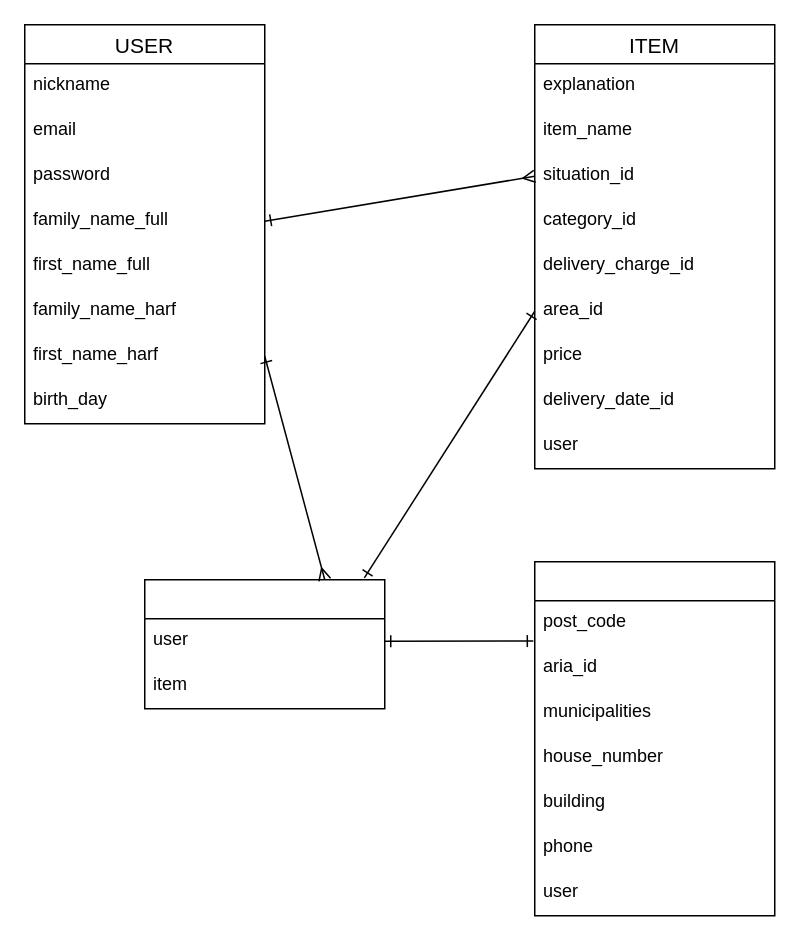
This 800x941 diagram has some shape labels left out. Each missing label, with the box of its shape:
ADDRESS: (533, 560, 775, 916)
PURCHASE: (143, 578, 385, 709)
